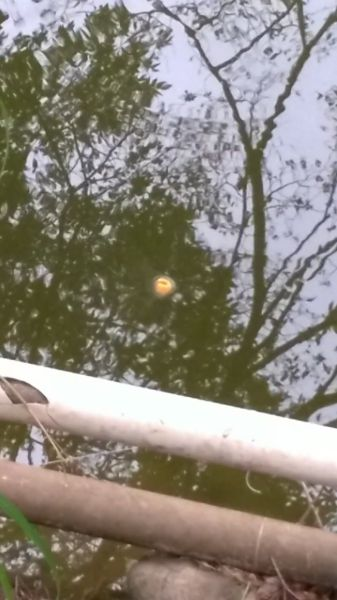eggs: (148, 271, 175, 299)
